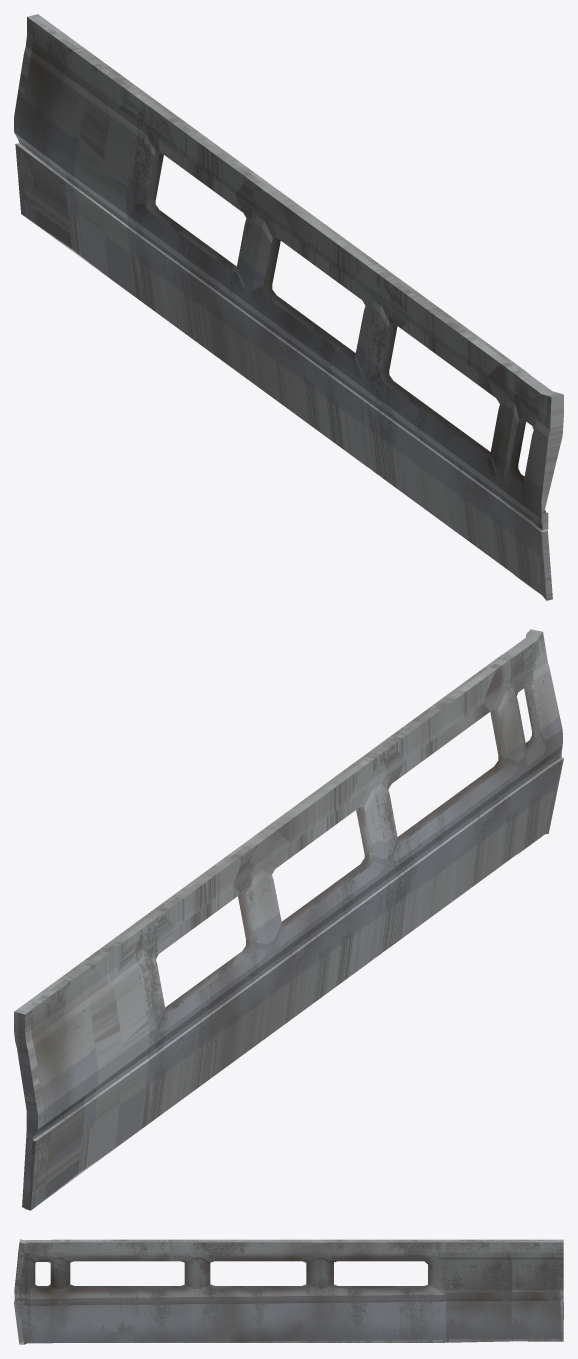
The model's file is closed_wall.fbx.
The picture shows the model from 3 angles, top to bottom: view 1: azimuth 30°, elevation 25°; view 2: azimuth 150°, elevation 25°; view 3: azimuth 270°, elevation 25°; orthographic projection. The views are drawn at different scales.
Visible parts, largest first — view 1: Long_Side1; view 2: Long_Side1; view 3: Long_Side1.
Boxes of the visible parts, x1,y1,x2,y2 form: Long_Side1: [14, 14, 563, 600]; Long_Side1: [14, 629, 563, 1210]; Long_Side1: [14, 1239, 563, 1344].
Size of the model in its own units: 0.2491 by 1.72 by 8.15.
